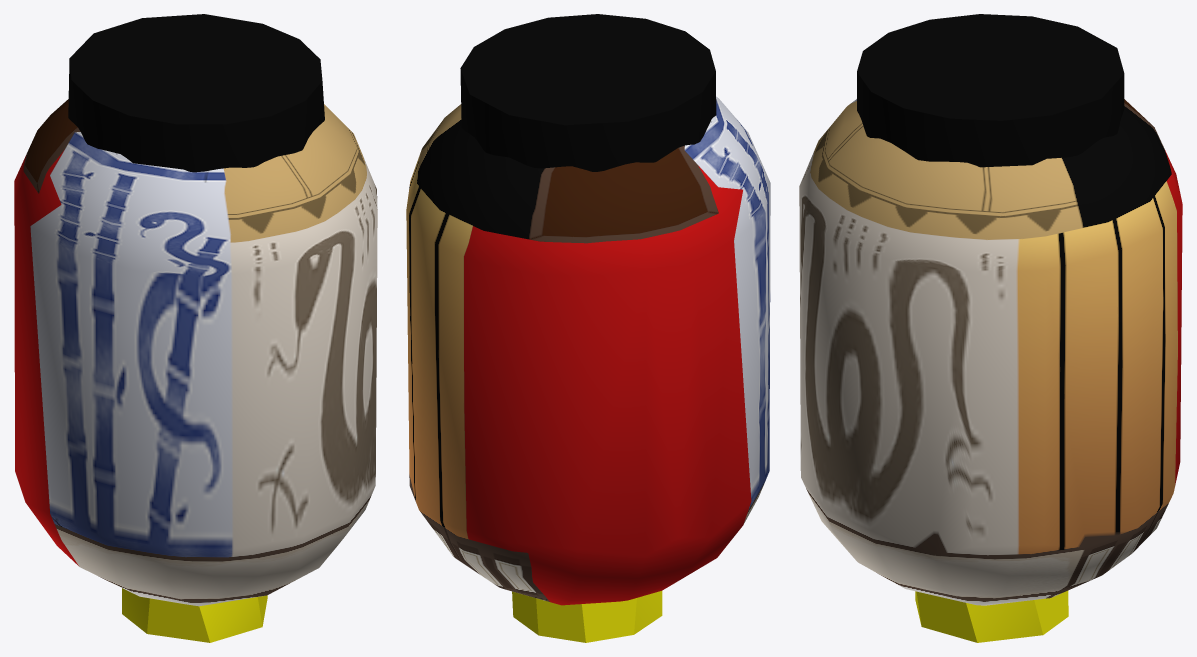
File: lantern long.fbx
The picture shows the model from 3 angles, left to right: view 1: azimuth 30°, elevation 25°; view 2: azimuth 150°, elevation 25°; view 3: azimuth 270°, elevation 25°; orthographic projection.
Parts seen in each view (by area): view 1: Sphere.001; view 2: Sphere.001; view 3: Sphere.001.
Boxes of the visible parts, x1=… form: Sphere.001: x1=14, y1=14, x2=377, y2=642; Sphere.001: x1=406, y1=14, x2=770, y2=642; Sphere.001: x1=799, y1=14, x2=1182, y2=642.
Bounding box in the file's own units: 0.921 × 1.53 × 0.9749.
